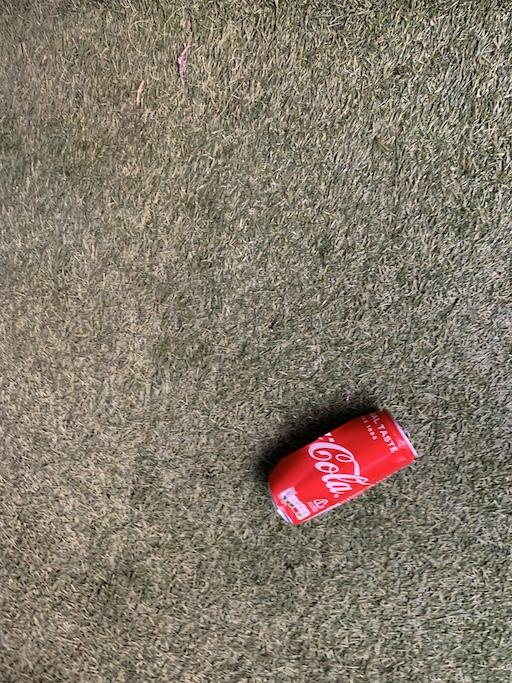Aluminum can: (258, 402, 430, 540)
